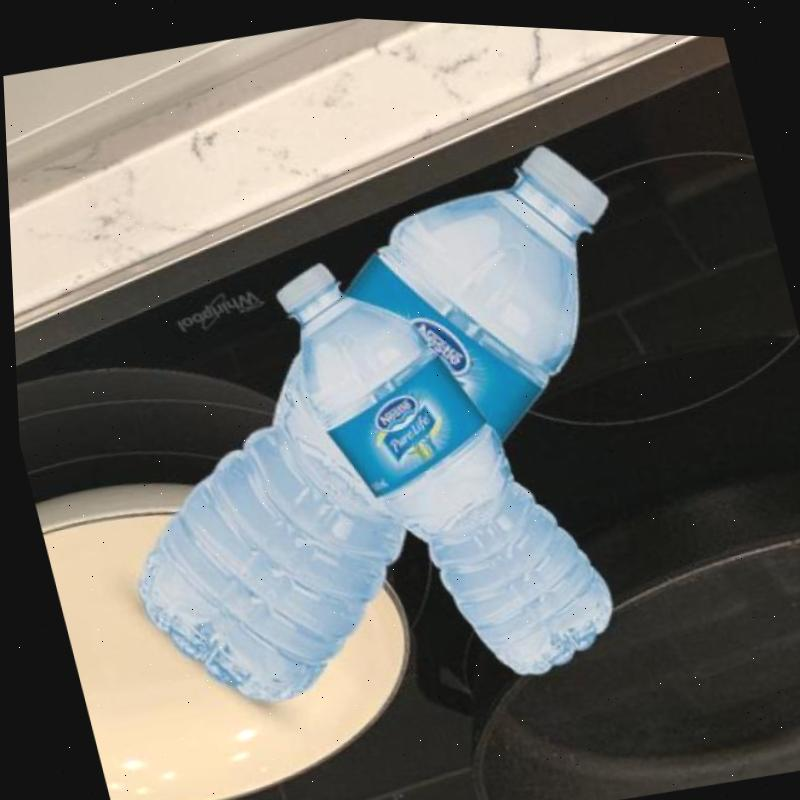botella: (35, 105, 718, 741), (264, 211, 625, 708)
